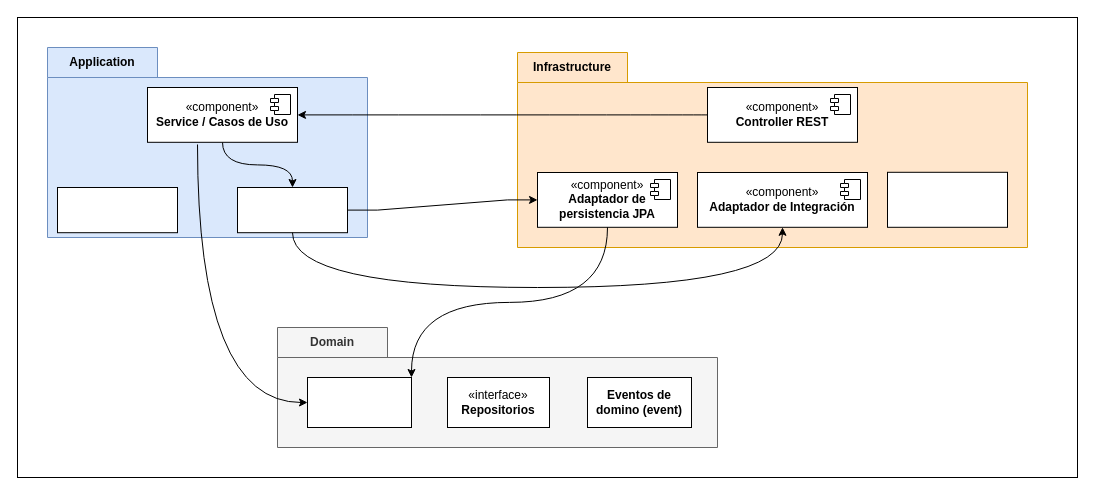
Some shapes in this 1095 by 495 pixel diagram are drawn without their labels. The shapes that lost their labels are listed below. From the top down, each one's centre as x and y in pixels, then its label:
[117,209]: <<artifact>> DTOs
[292,209]: «interface» Puertos
[947,199]: <<artifact>> Configuraciones
[359,402]: Entidades de dominio (model)
